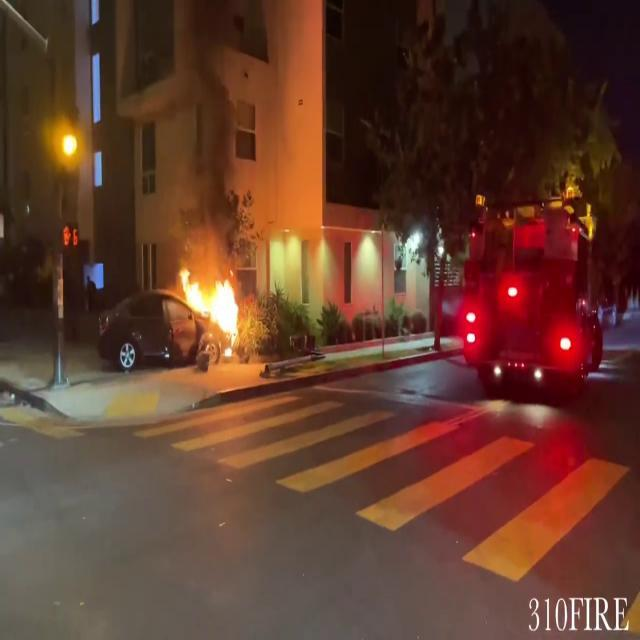Fire: (175, 260, 246, 352)
Smoke: (159, 0, 299, 247), (158, 1, 246, 251)
